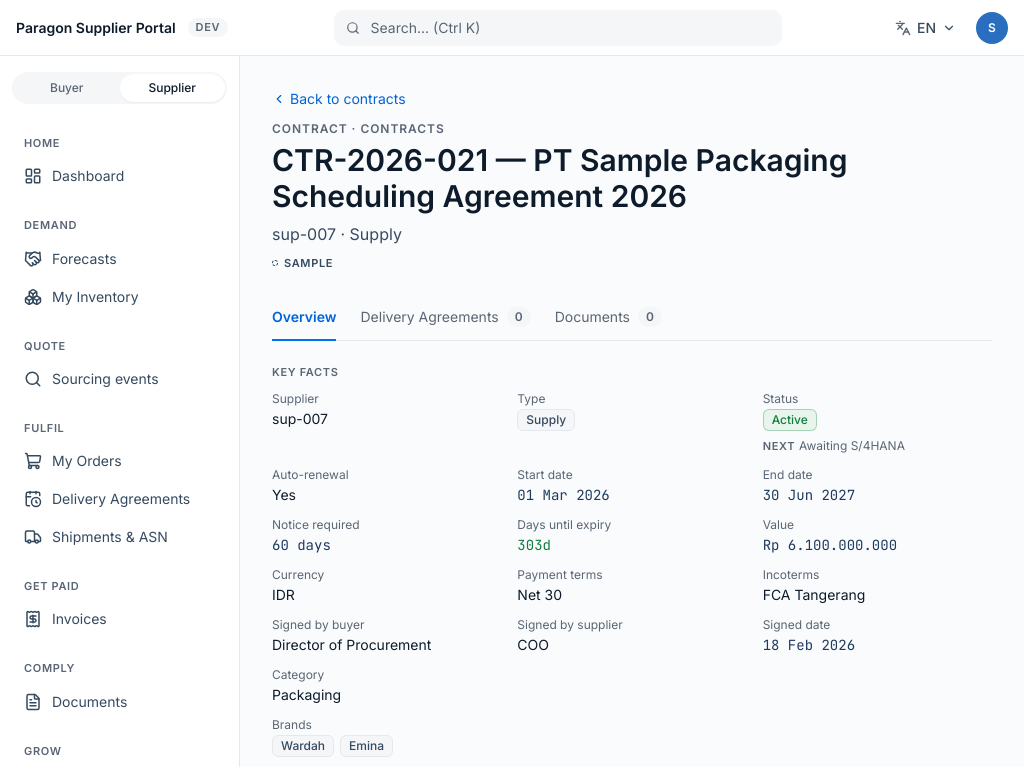
it: BuyerContractDetail — nested contract detail route › a supplier persona sees the DA tab read-only — no release control
Check: the heading "CTR-2026-021 — PT Sample Packaging Scheduling Agreement 2026" is shown, box 272,142 -> 848,214
Click the tab "Delivery Agreements 0" at (446, 318), box 360,295 -> 531,341
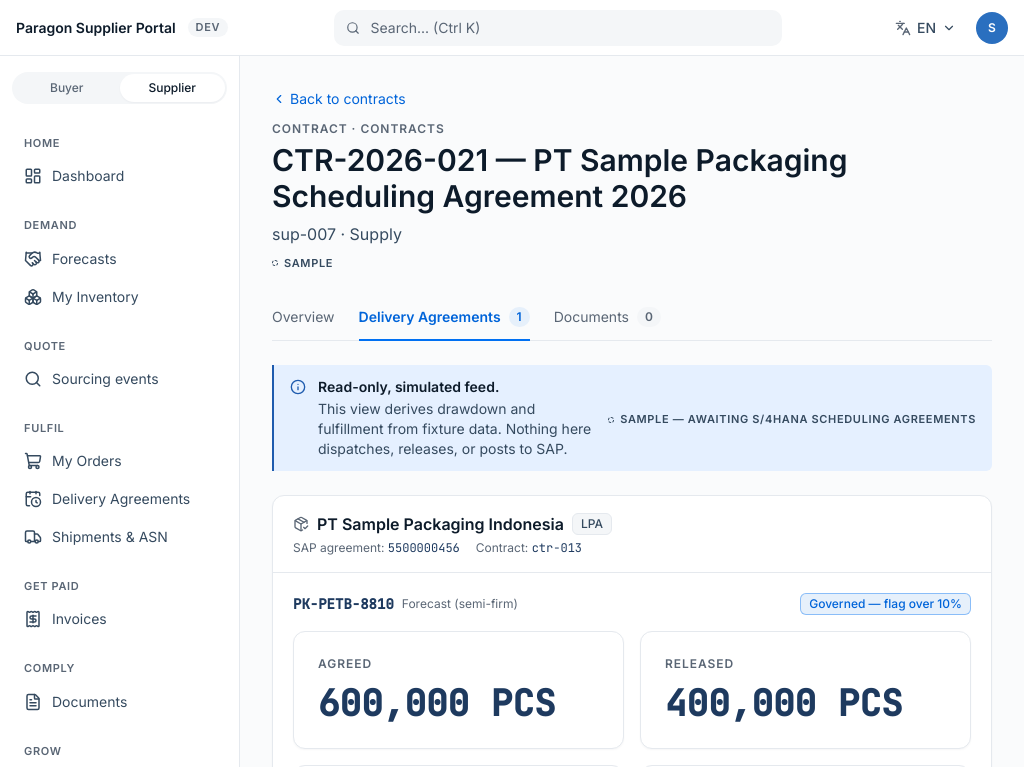
Check: the text "Read-only, simulated feed." is shown, box 318,378 -> 499,395
